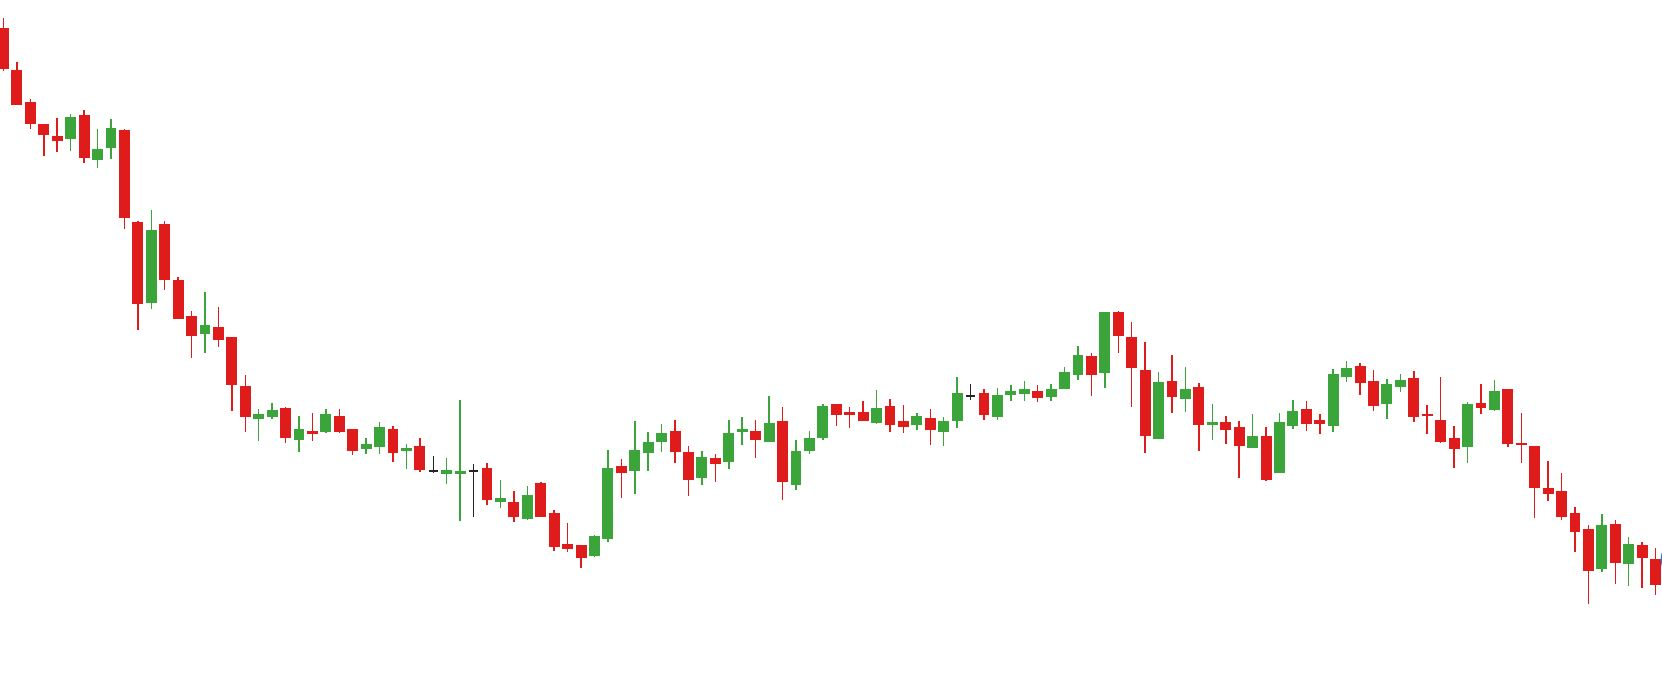buy: (685, 437, 803, 506)
